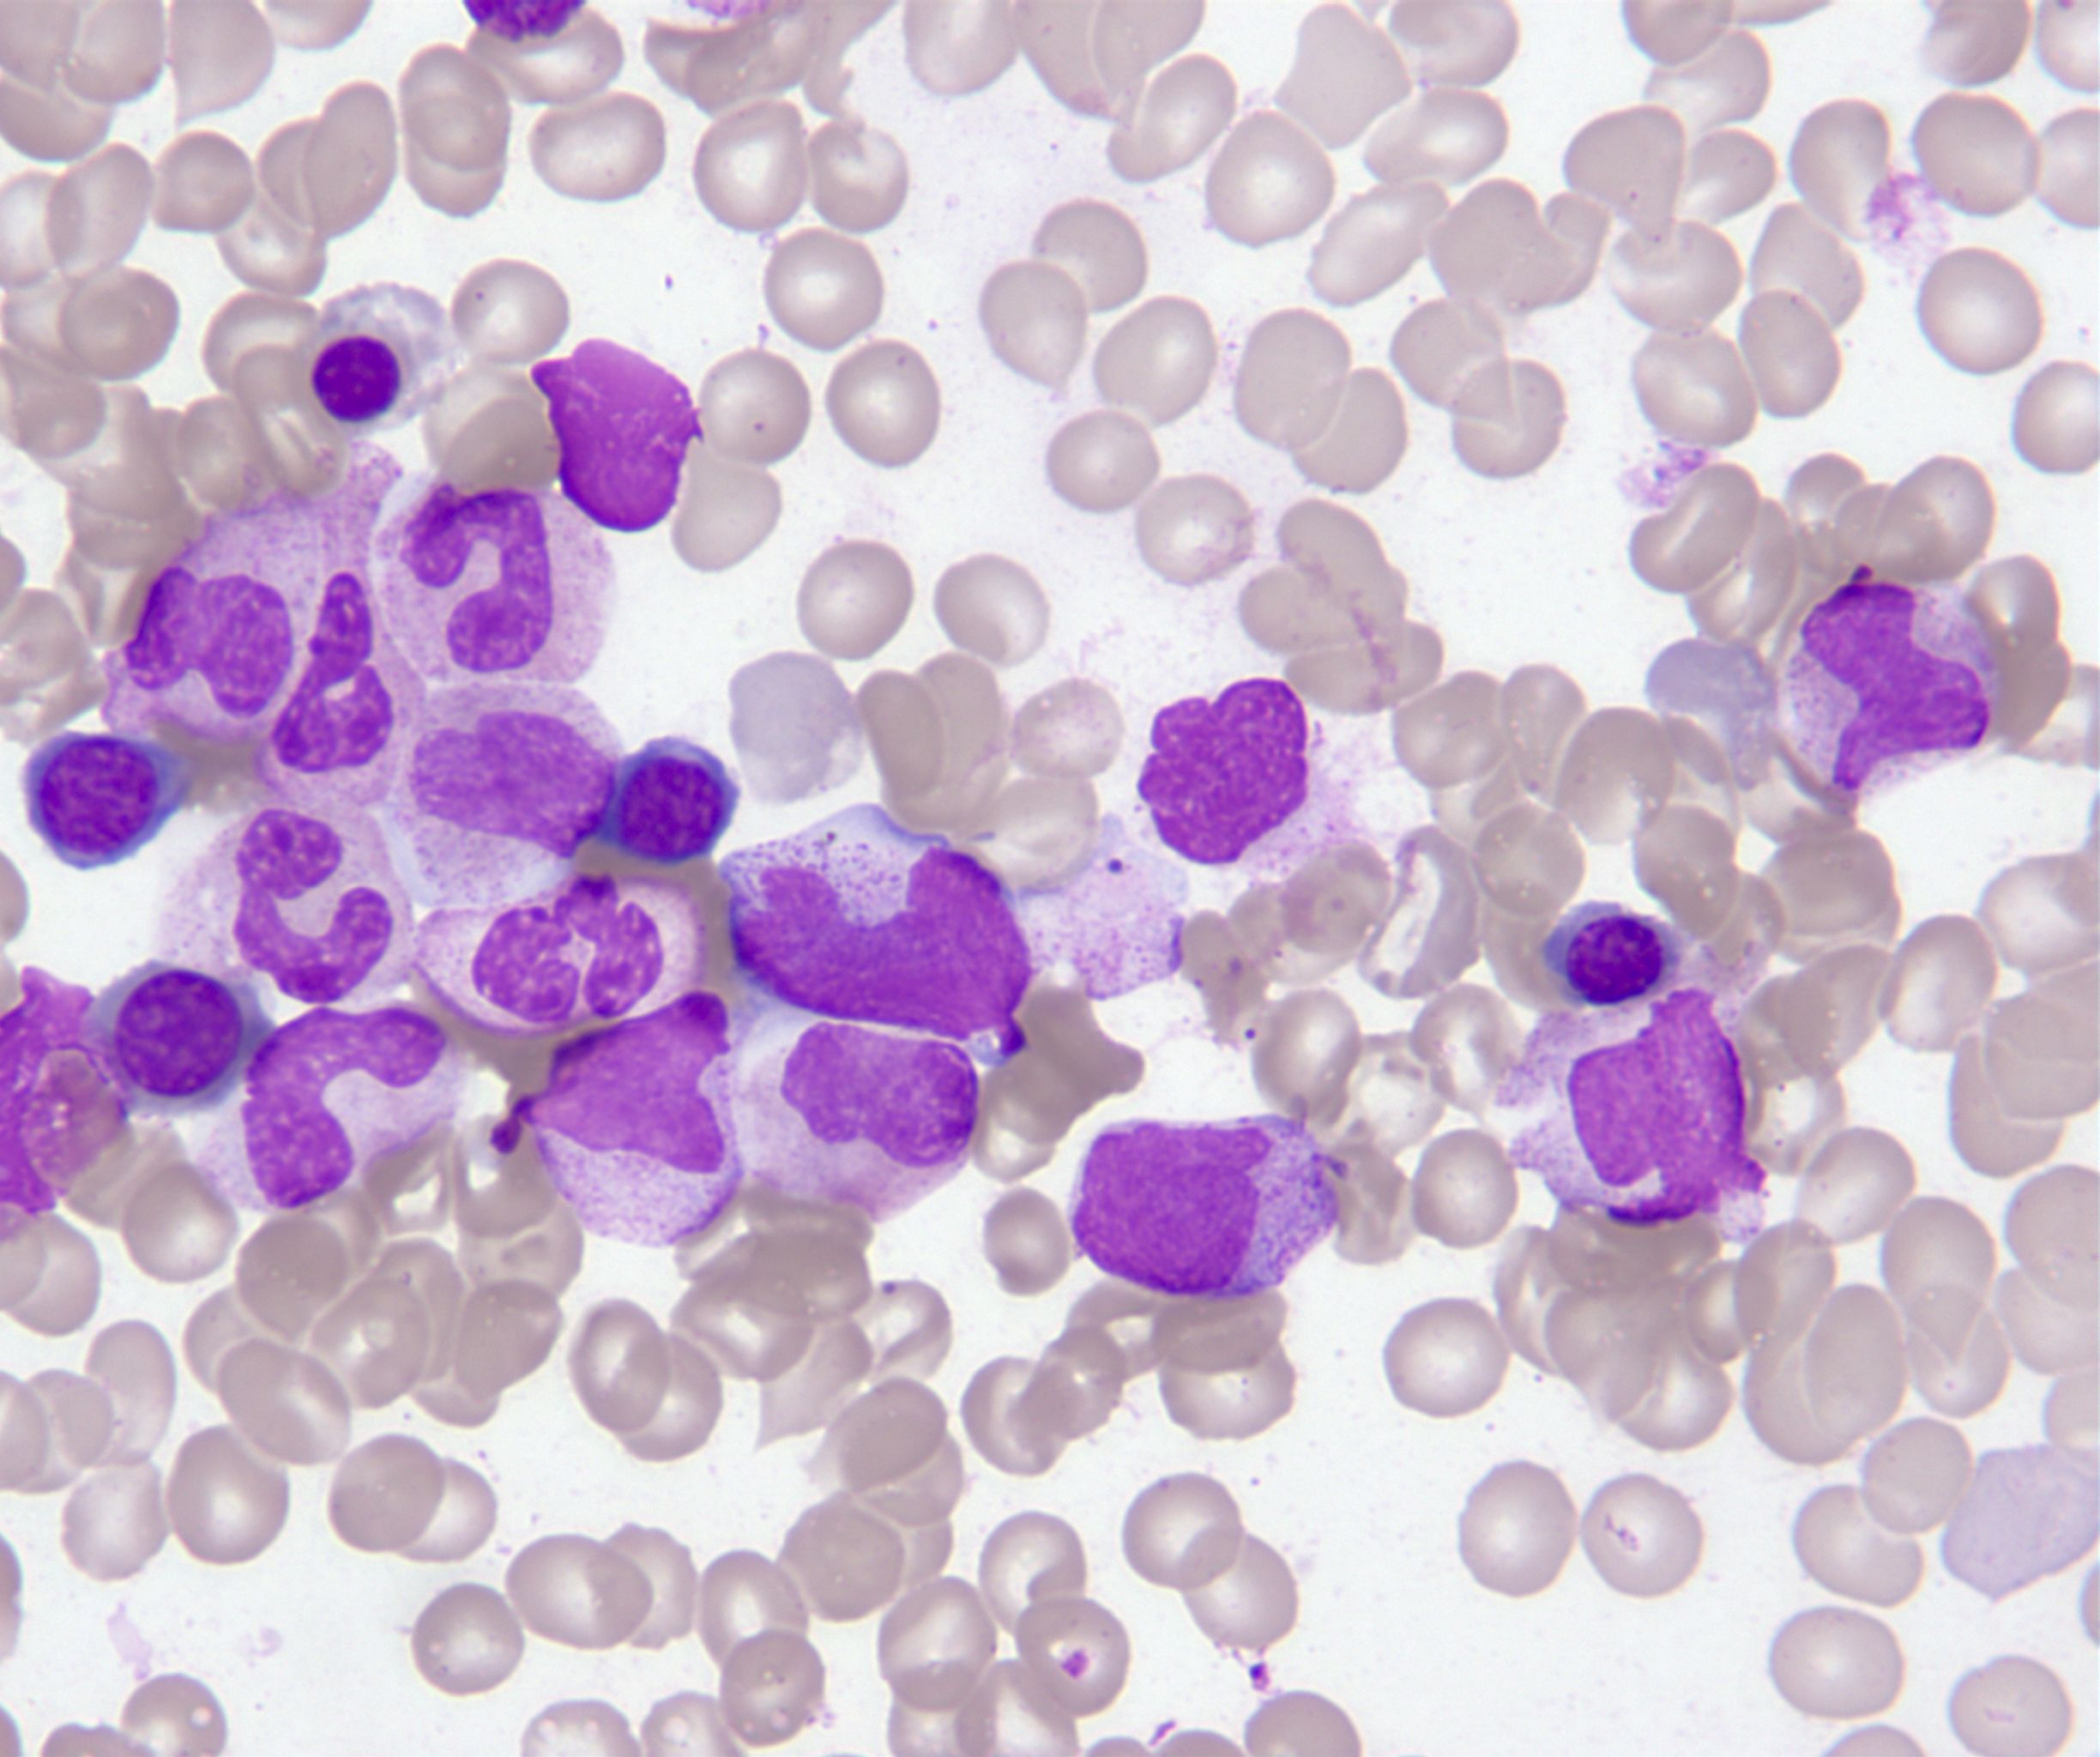2: (705, 799, 1040, 1071)
23: (14, 724, 201, 876), (588, 724, 747, 872)
24: (85, 953, 277, 1118), (307, 279, 471, 436), (1533, 897, 1695, 1014)
3: (1486, 974, 1777, 1235), (483, 986, 752, 1258), (1770, 558, 2011, 813), (1060, 1106, 1347, 1303), (195, 790, 424, 1008)
4: (96, 485, 324, 729), (727, 1012, 987, 1227), (209, 1002, 455, 1218), (391, 680, 631, 869)
5: (358, 473, 624, 693)
6: (410, 867, 712, 1038), (267, 567, 408, 785)
x: (1122, 672, 1336, 872), (525, 332, 708, 537)
